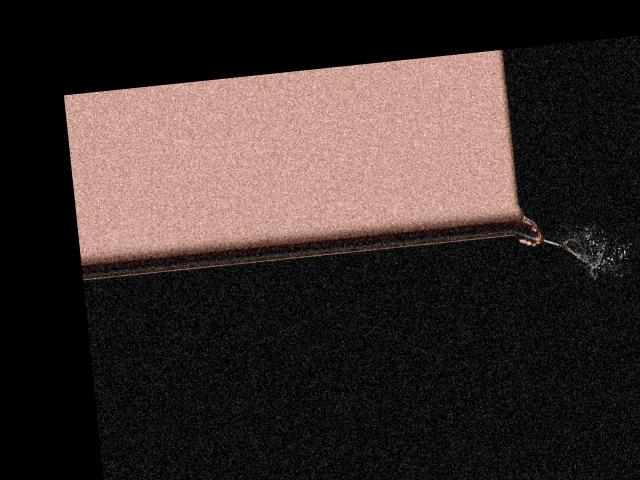beer: (512, 214, 564, 252)
